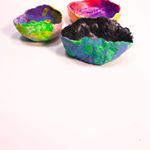other: (10, 3, 65, 46)
